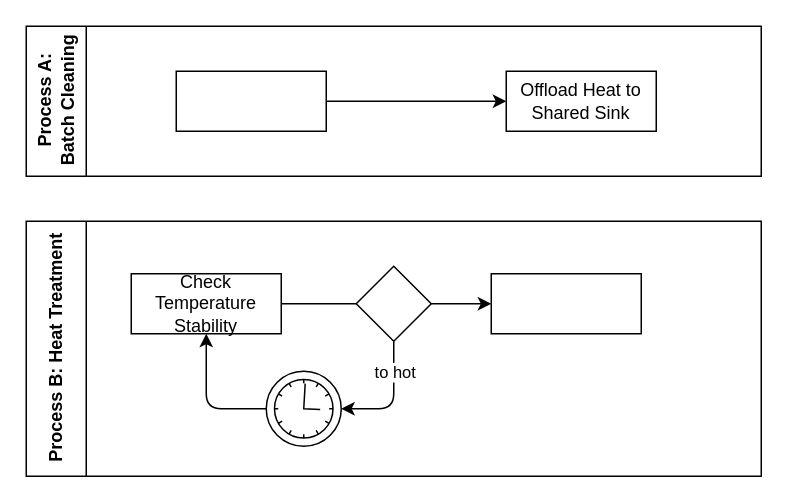
The diagram is 788 pixels wide and 503 high, and some of its shapes have lost their labels. Here are the shapes that lost their labels. From the top down, the centre of each, then its label:
(x=250, y=100): Clean Parts
(x=565, y=303): Perform Heat Treatment
